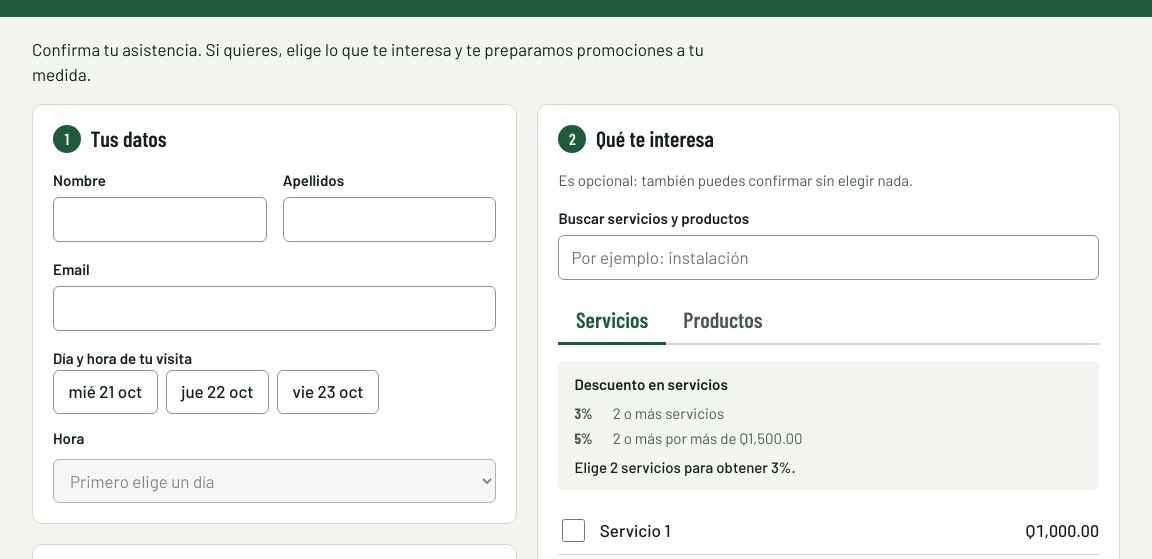
Test case: validation › shows errors the server still reports, without leaving the form
Step 1. Type "Ana" into the field labelled "Nombre" → [160, 219], box [53,197,267,242]
Step 2. Type "Lopez" into the field labelled "Apellidos" → [390, 219], box [283,197,496,242]
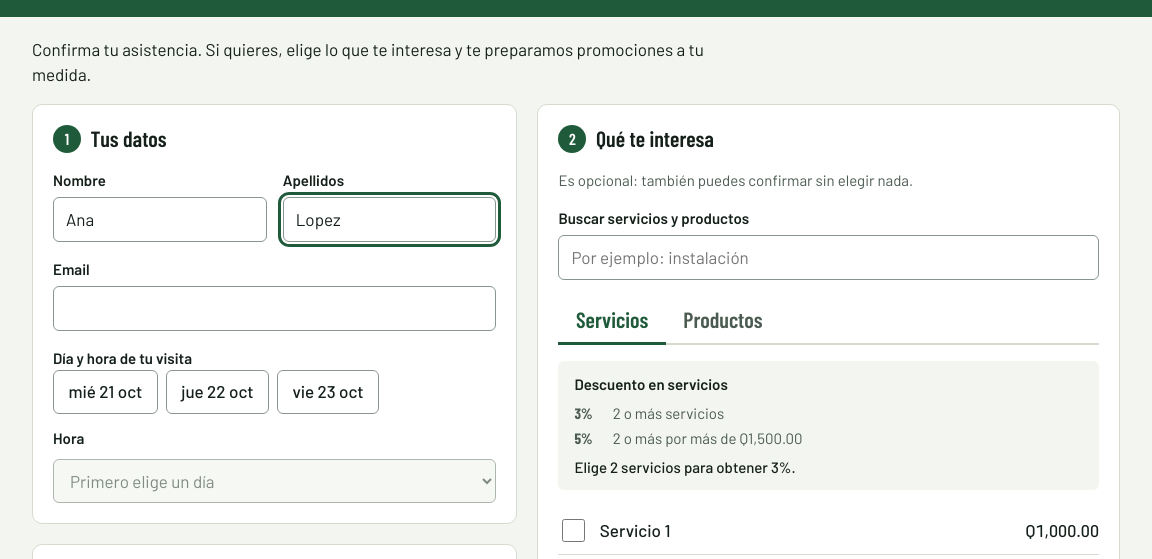
Step 3. Type "ana@example.com" into the field labelled "Email" → [275, 309], box [53,286,496,331]
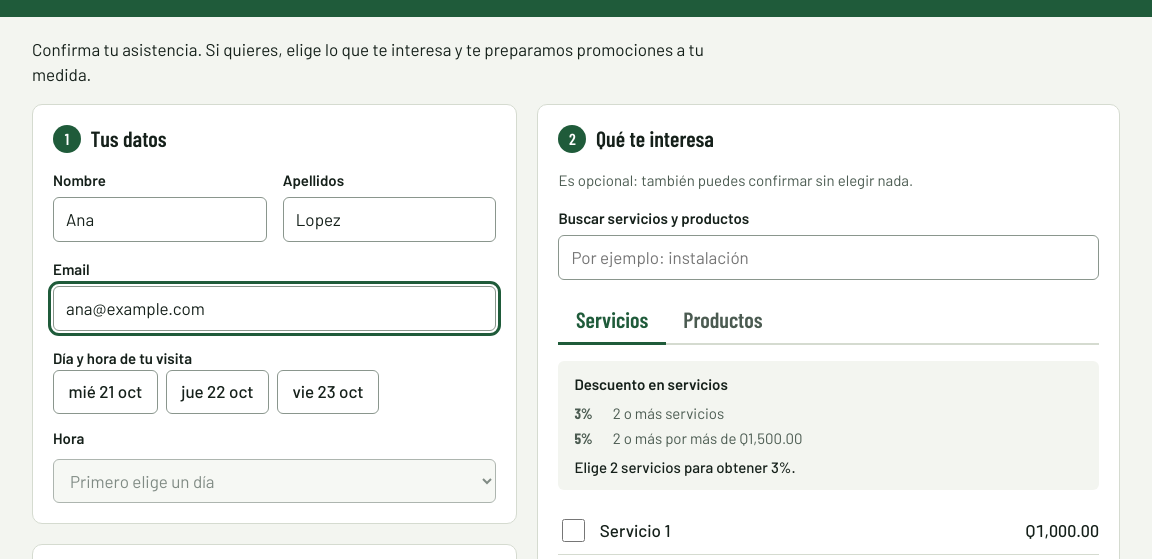
Step 4. Click the 1st radio button → [105, 392], box [53,370,158,414]
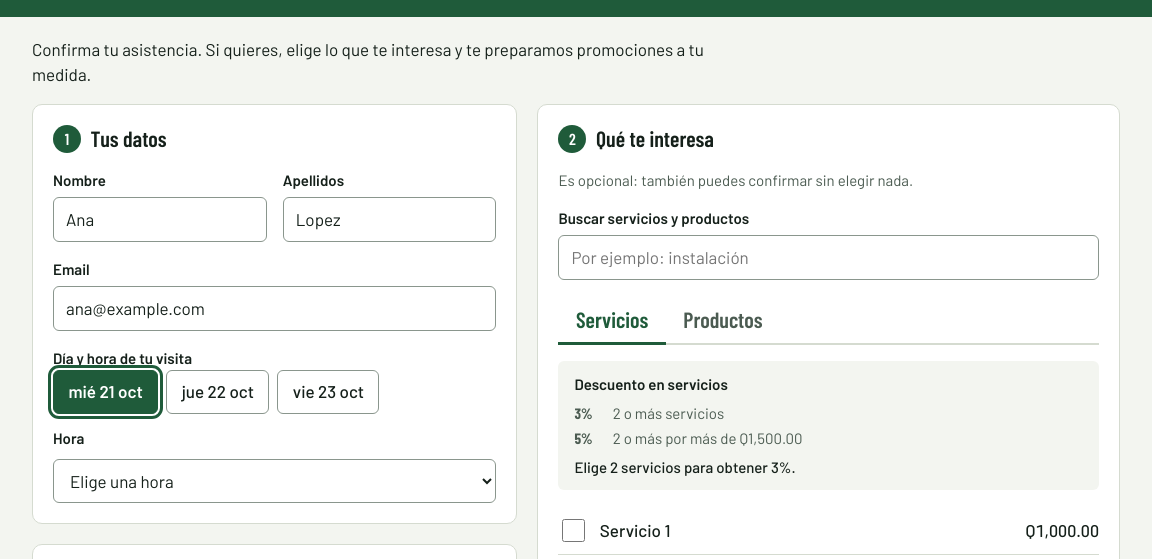
Step 5. Select "10:00" in the dropdown labelled "Hora" → [275, 481], box [53,459,496,503]
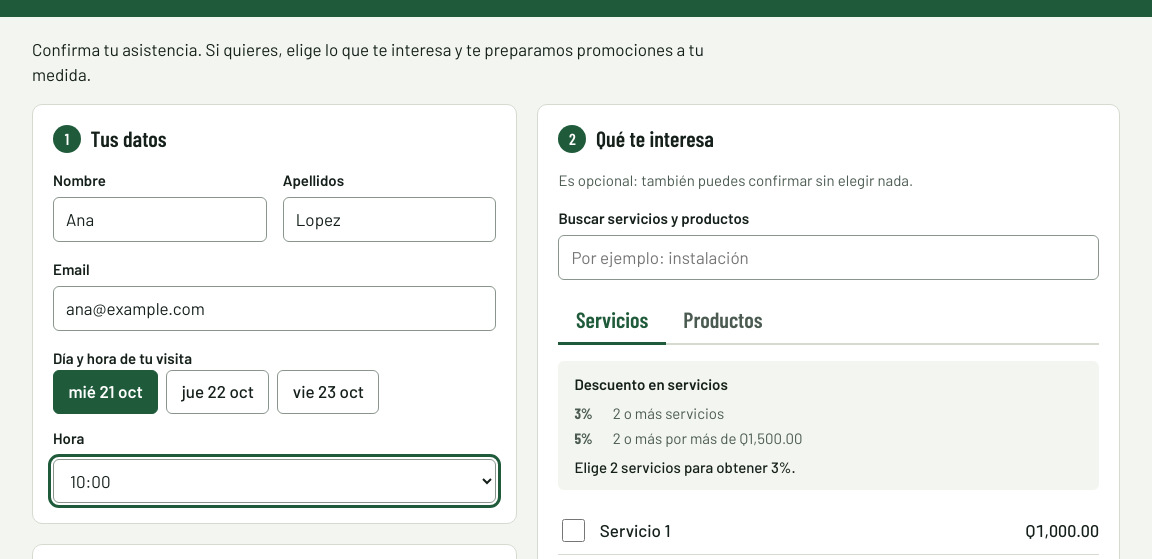
Step 6. Click the checkbox labelled "Servicio 1 Q1,000.00" → [574, 530], box [562,519,585,542]
(page scrolled)
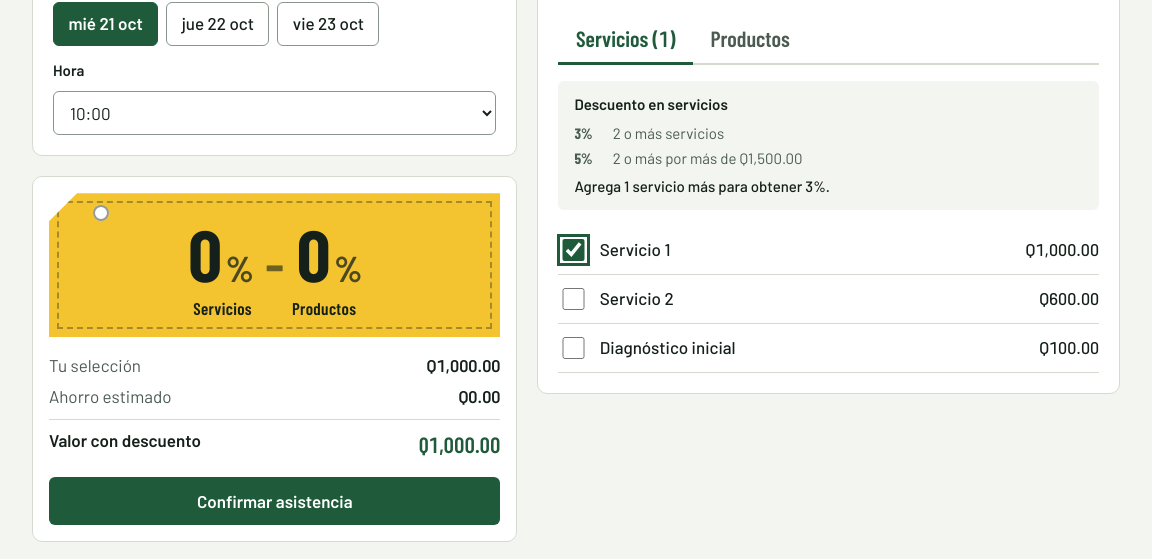
Step 7. Click the button "Confirmar asistencia" → [275, 501], box [49,477,500,525]
(page scrolled)
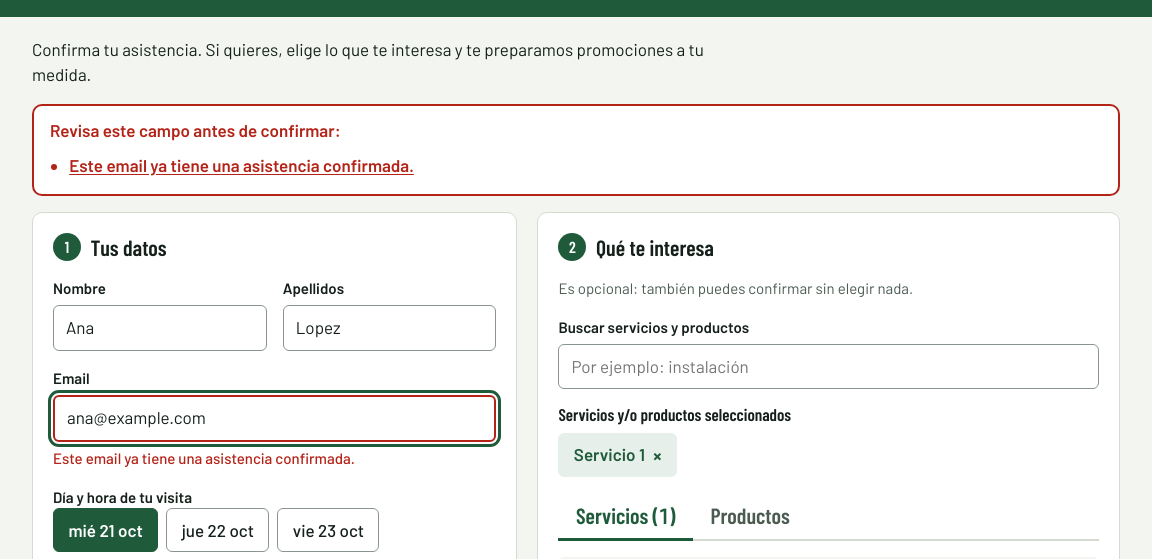
Expected: the heading "1 Tus datos" is shown, [53,233,167,261]
Now the text "Este email ya tiene una asistencia confirmada." is shown, box [53,449,355,467]
